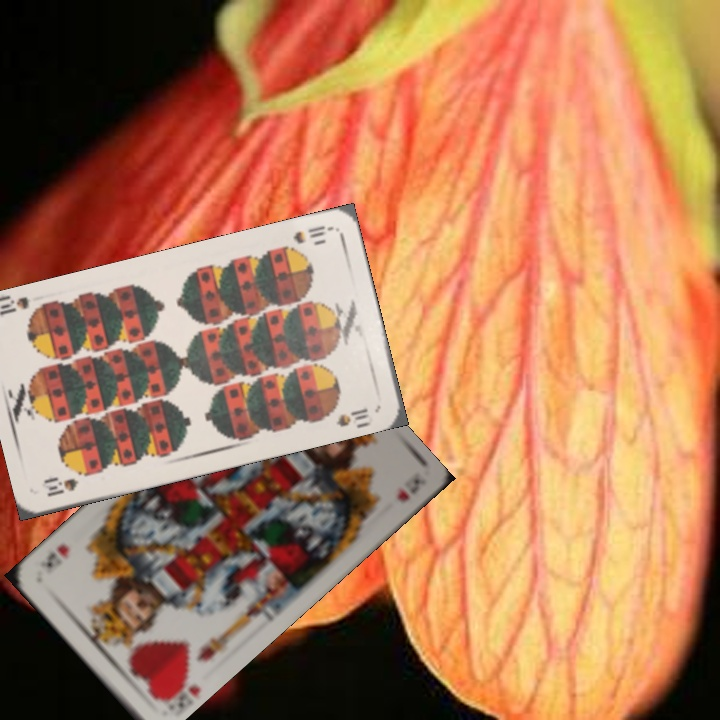HK: (156, 672, 203, 705)
S10: (277, 221, 333, 254), (37, 474, 82, 500)
